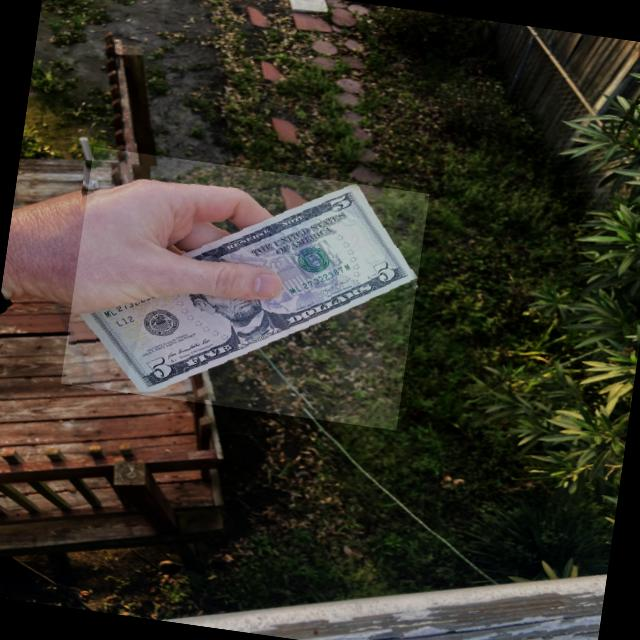five: (73, 172, 418, 406)
